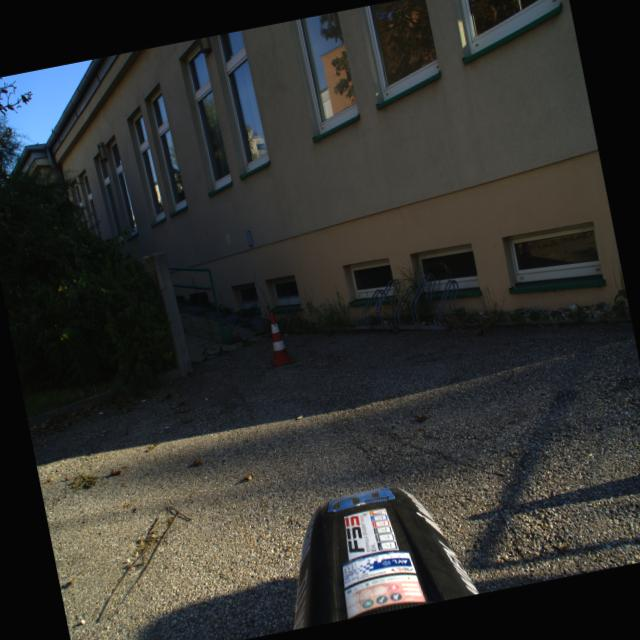large_orange_cone: (262, 310, 294, 368)
